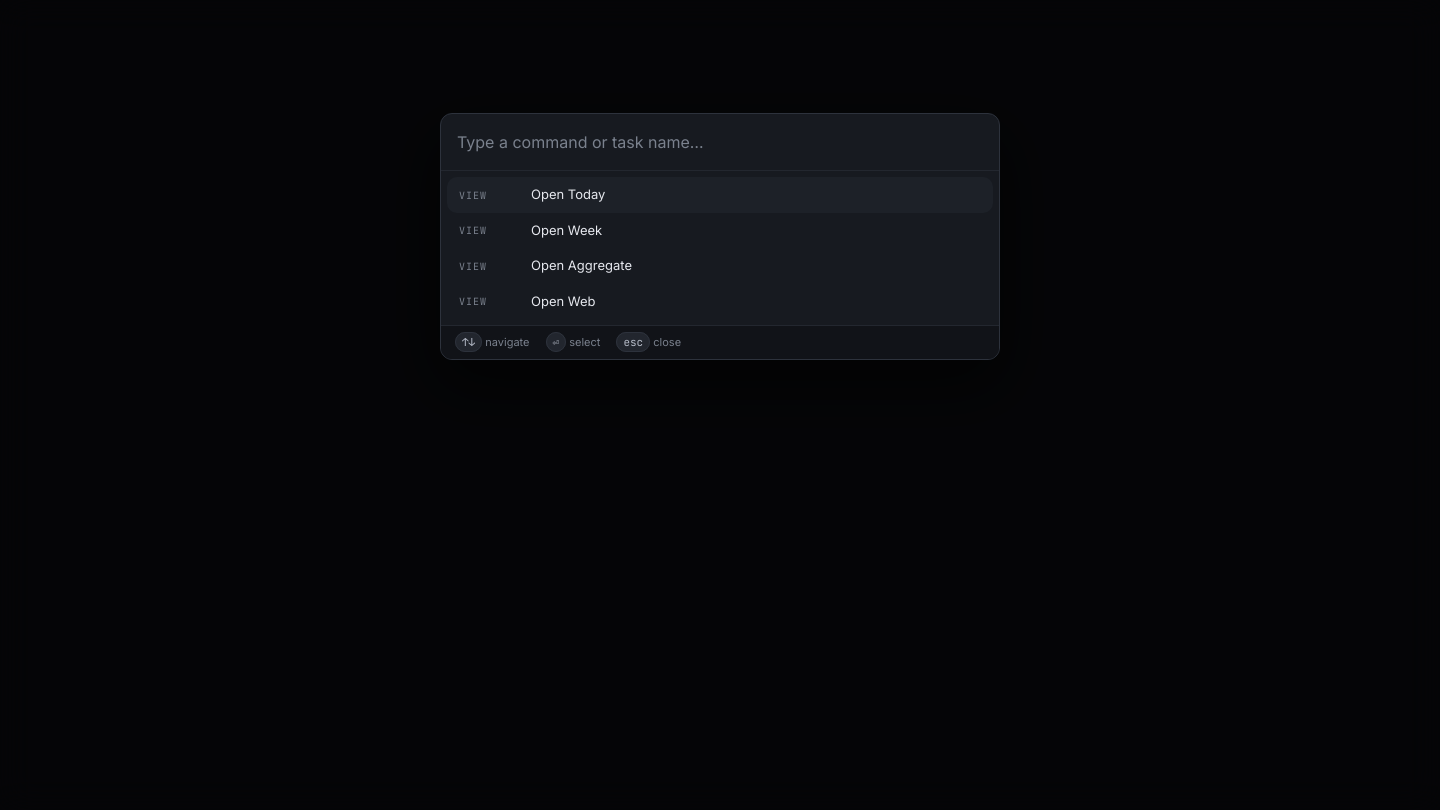
it: CommandBar › renders no-matches hint when no item matches
Type "zzzzz" into the field with placeholder "Type a command or task name…". click: (720, 143)
box: [441,114,999,171]
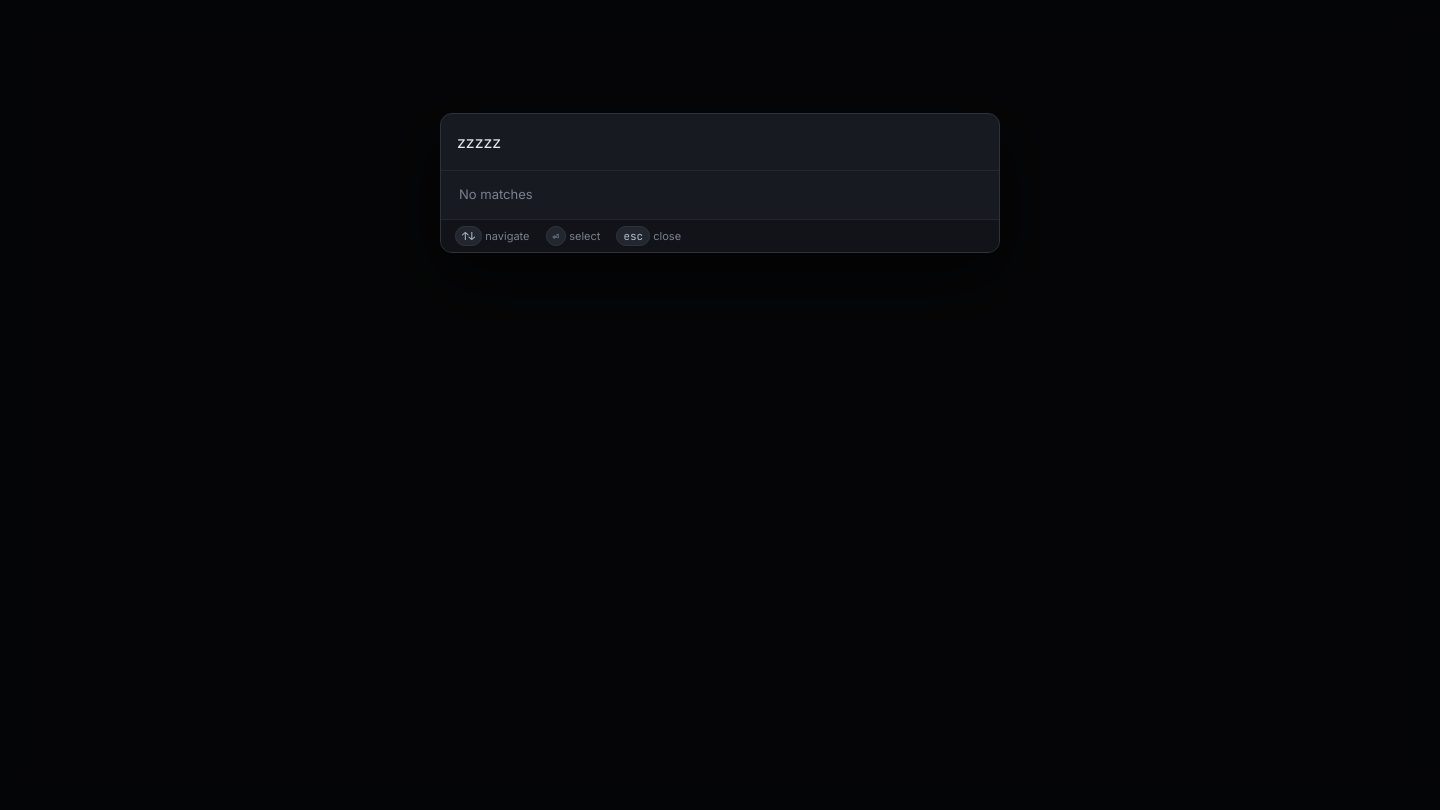
Expected: the list item "No matches" is shown, [459,186,533,202]
